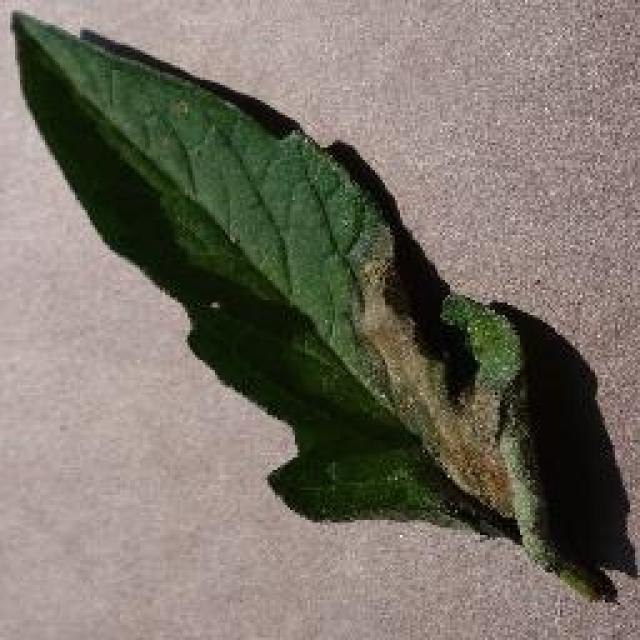Tomato late blight leaf: (14, 10, 618, 608)
